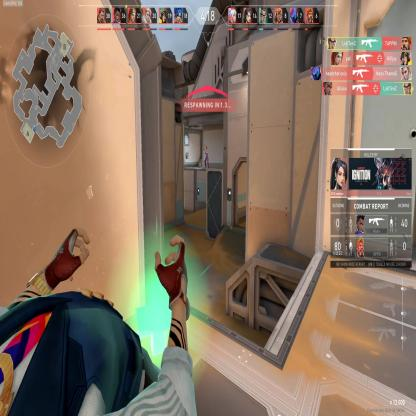enemy: (204, 145, 209, 168)
